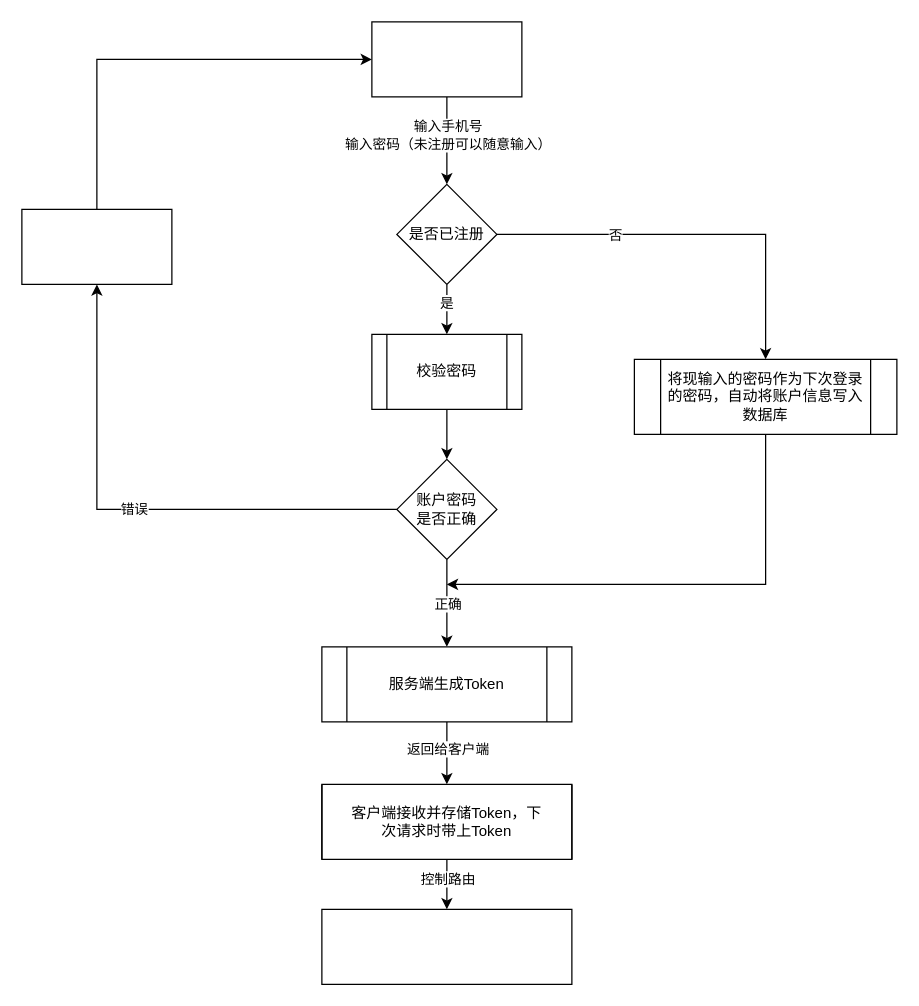
Some shapes in this 919 by 1006 pixel diagram are drawn without their labels. The shapes that lost their labels are listed below. From the top down, each one's centre as x and y in pixels, then its label:
(x=446, y=59): 登录注册
(x=96, y=246): 返回登录注册页面
(x=446, y=946): 进入应用首页
